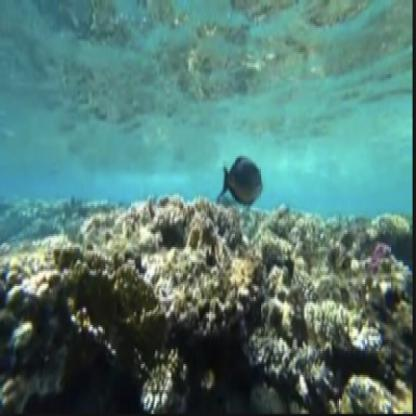Acanthuridae -Surgeonfishes-: (217, 154, 265, 204)
